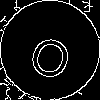O: (25, 25, 78, 83)
